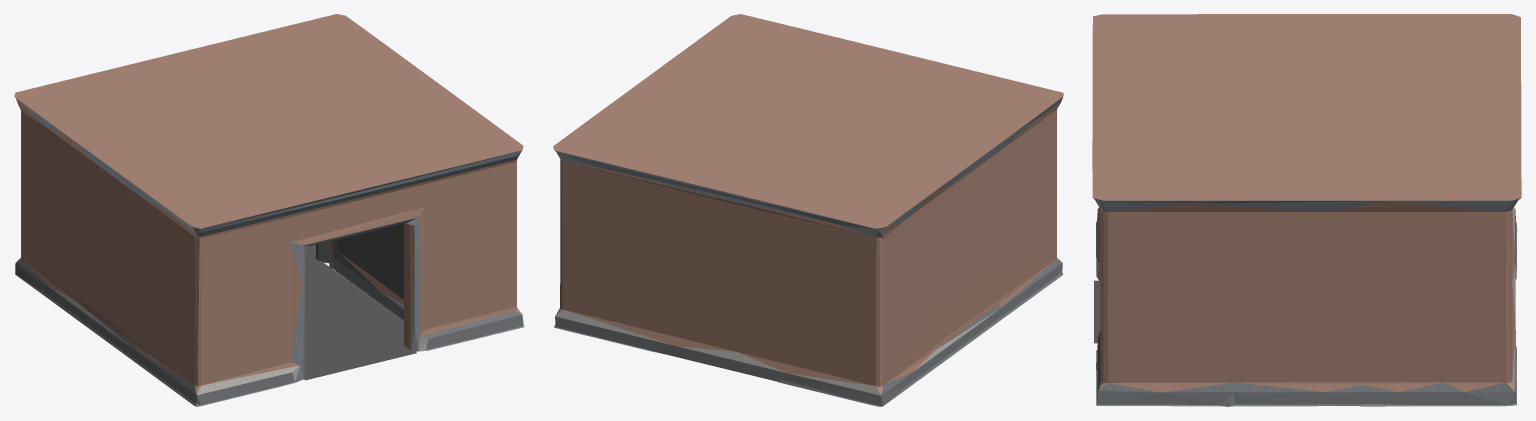
Rendered from etape-1.glb.
3 views of the same model, side by side, from view 1: azimuth 30°, elevation 25°; view 2: azimuth 150°, elevation 25°; view 3: azimuth 270°, elevation 25° (orthographic). The views are drawn at different scales.
Visible parts, largest first — view 1: geometry_0; view 2: geometry_0; view 3: geometry_0.
Part boxes in pixels (x1,y1,x2,y2): geometry_0: (14, 14, 524, 406); geometry_0: (553, 14, 1063, 406); geometry_0: (1092, 14, 1521, 406).
Size of the model in its own units: 0.8069 by 0.415 by 0.7831.
